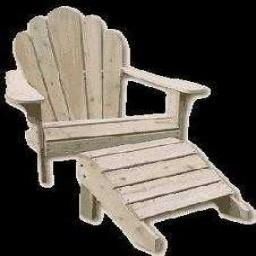Chair: (6, 6, 253, 256)
